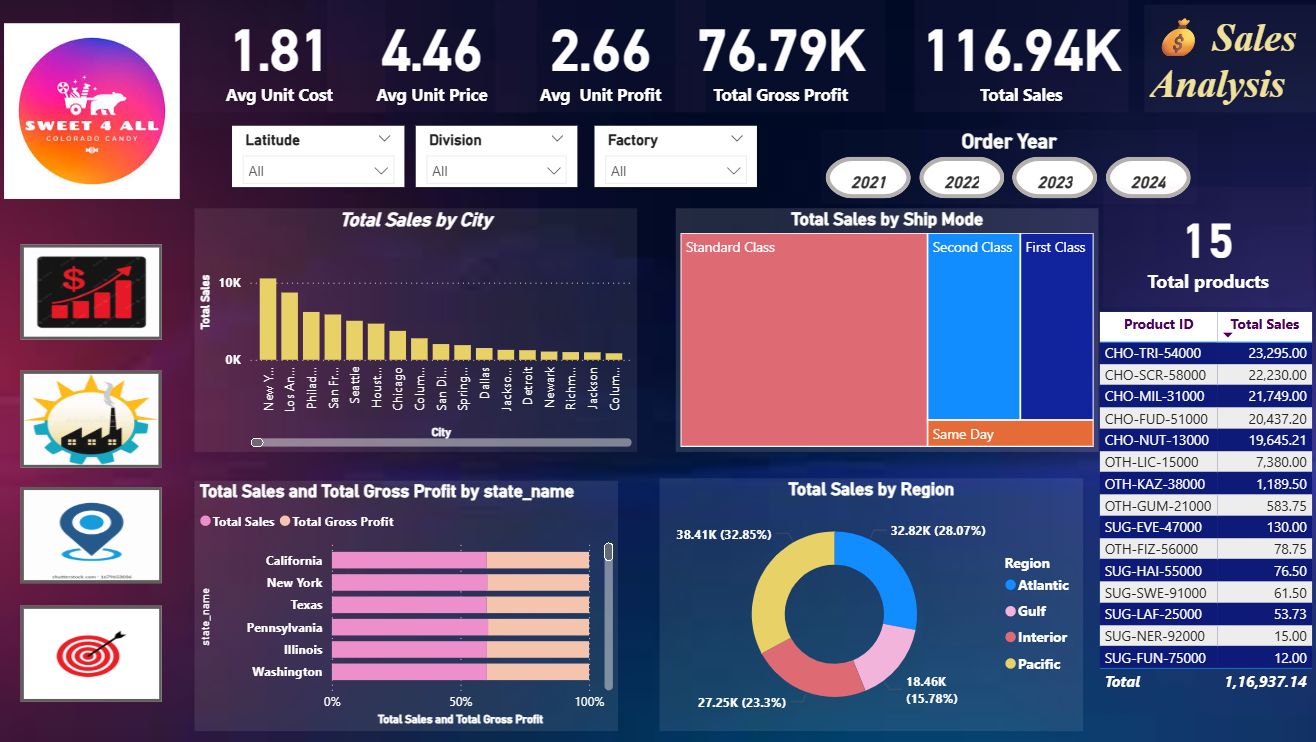

What the dashboard file says about the page in this screenshot:
{"tool":"powerbi","page":{"name":"Sales","canvas":[1280,720],"ordinal":1},"visuals":[{"type":"card","fields":{"Values":["Candy_Sales.Total Sales"]},"box":[885.5,0,206.3,111],"z":0},{"type":"card","fields":{"Values":["Avg(Candy_Products.Unit Cost)"]},"box":[170.1,0,205.1,111],"z":1000},{"type":"card","fields":{"Values":["Candy_Sales.Total Gross Profit"]},"box":[655.1,0,202.7,111],"z":2000},{"type":"donutChart","fields":{"Y":["Candy_Sales.Total Sales"],"Series":["Candy_Sales.Region"]},"box":[639.4,464.5,409,243.7],"z":3000},{"type":"columnChart","fields":{"Y":["Candy_Sales.Total Sales"],"Category":["Candy_Sales.City"]},"box":[190.6,203.9,427.1,235.3],"z":4000},{"type":"hundredPercentStackedBarChart","fields":{"Category":["uszips.state_name"],"Y":["Candy_Sales.Total Sales","Candy_Sales.Total Gross Profit"]},"box":[190.6,466.9,409,241.3],"z":5000},{"type":"advancedSlicerVisual","fields":{"Values":["Candy_Sales.Year"]},"box":[795,128.4,363.6,72.1],"z":6000},{"type":"slicer","fields":{"Values":["Candy_Factories.Latitude"]},"box":[226.8,124.3,166.5,59.1],"z":7000},{"type":"slicer","fields":{"Values":["Candy_Targets.Division"]},"box":[404,124.1,155.8,59.2],"z":8000},{"type":"slicer","fields":{"Values":["Candy_Sales.Factory"]},"box":[576.7,124.3,156.8,59.1],"z":9000},{"type":"actionButton","box":[22.9,472.9,136.3,92.9],"z":10000},{"type":"actionButton","box":[22.9,587.5,136.3,92.9],"z":11000},{"type":"actionButton","box":[23.1,360.7,135.6,93.8],"z":12000},{"type":"actionButton","box":[22.9,238.9,136.3,91.7],"z":13000},{"type":"image","box":[1.2,20.5,181,179.8],"z":14000},{"type":"treemap","fields":{"Values":["Candy_Sales.Total Sales"],"Group":["Candy_Sales.Ship Mode"]},"box":[655,203.4,408.3,235.2],"z":15000},{"type":"tableEx","fields":{"Values":["Candy_Sales.Product ID","Candy_Sales.Total Sales"]},"box":[1058,299.2,222,395.7],"z":16000},{"type":"card","fields":{"Values":["Avg(Candy_Products.Unit Price)"]},"box":[318.5,0,202.7,111],"z":17000},{"type":"textbox","box":[1107.5,7.2,172.5,103.8],"z":18000},{"type":"card","fields":{"Values":["Avg(Candy_Products.Unit Profit)"]},"box":[481.4,0,202.7,111],"z":19000},{"type":"card","fields":{"Values":["Candy_Products.Total products"]},"box":[1067.7,183.4,202.7,115.8],"z":20000}]}

Visuals, with their boxes in screenshot pixels (x1, y1, x2, y2), scaled from the page's 1280x720 canvas onto the 1316x742 screenshot:
card - Candy_Sales.Total Sales: crop(910, 0, 1123, 114)
card - Avg(Candy_Products.Unit Cost): crop(175, 0, 386, 114)
card - Candy_Sales.Total Gross Profit: crop(674, 0, 882, 114)
donutChart - Candy_Sales.Total Sales x Candy_Sales.Region: crop(657, 479, 1078, 730)
columnChart - Candy_Sales.Total Sales x Candy_Sales.City: crop(196, 210, 635, 453)
hundredPercentStackedBarChart - uszips.state_name x Candy_Sales.Total Sales: crop(196, 481, 616, 730)
advancedSlicerVisual - Candy_Sales.Year: crop(817, 132, 1191, 207)
slicer - Candy_Factories.Latitude: crop(233, 128, 404, 189)
slicer - Candy_Targets.Division: crop(415, 128, 576, 189)
slicer - Candy_Sales.Factory: crop(593, 128, 754, 189)
actionButton: crop(24, 487, 164, 583)
actionButton: crop(24, 605, 164, 701)
actionButton: crop(24, 372, 163, 468)
actionButton: crop(24, 246, 164, 341)
image: crop(1, 21, 187, 206)
treemap - Candy_Sales.Total Sales x Candy_Sales.Ship Mode: crop(673, 210, 1093, 452)
tableEx - Candy_Sales.Product ID x Candy_Sales.Total Sales: crop(1088, 308, 1315, 716)
card - Avg(Candy_Products.Unit Price): crop(327, 0, 536, 114)
textbox: crop(1139, 7, 1315, 114)
card - Avg(Candy_Products.Unit Profit): crop(495, 0, 703, 114)
card - Candy_Products.Total products: crop(1098, 189, 1306, 308)
